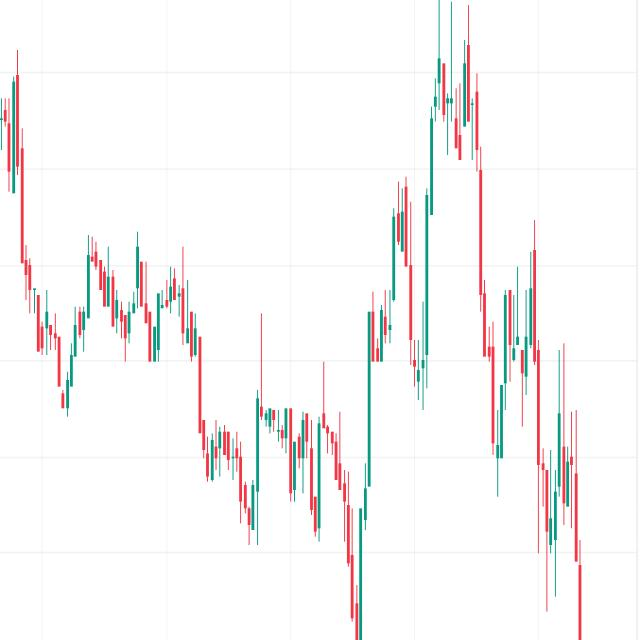Triple-Top: (63, 222, 210, 370)
